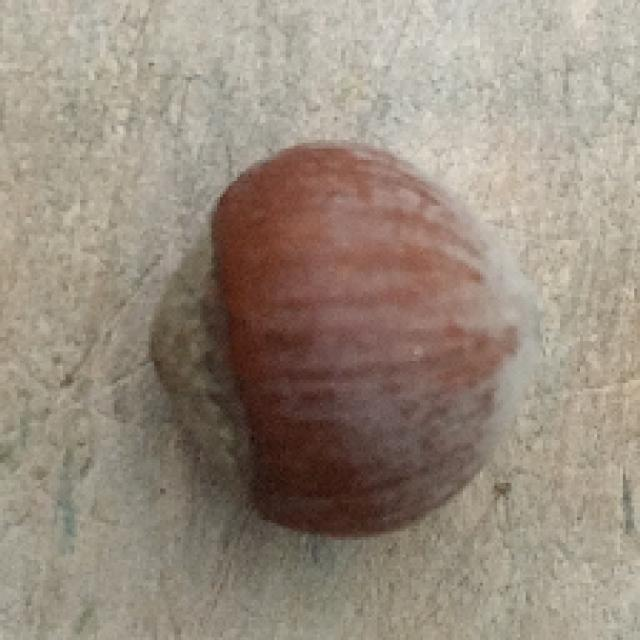qualityHazelnut: (158, 126, 537, 552)
